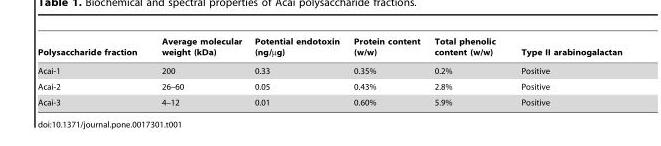table: (37, 36, 621, 106)
table column: (507, 36, 621, 106), (37, 36, 148, 106), (148, 36, 247, 106), (247, 36, 346, 106), (426, 36, 507, 106), (346, 36, 426, 106)
table column header: (37, 36, 621, 61)
table row: (37, 36, 621, 61), (37, 61, 621, 78), (37, 78, 621, 94), (37, 94, 621, 106)
